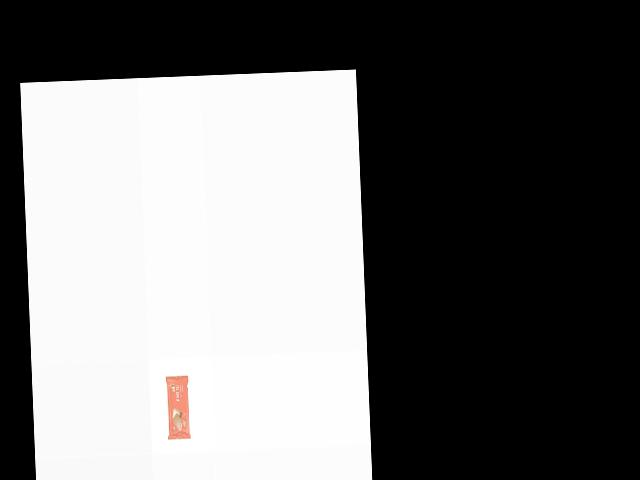chocolate: (165, 372, 191, 439)
